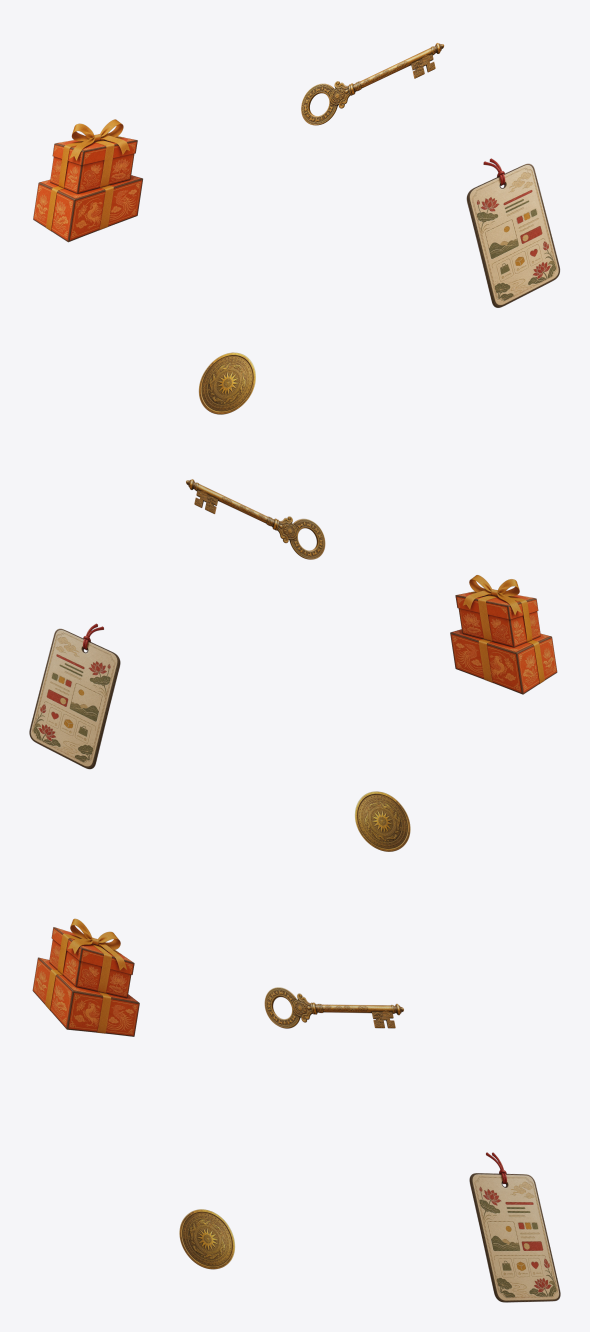
File: EW26_ShopApp_251208v3_compressed-optimized-c51f9f1461.glb
3 views of the same model, one above another, from view 1: azimuth 30°, elevation 25°; view 2: azimuth 150°, elevation 25°; view 3: azimuth 330°, elevation 25° (orthographic). The views are drawn at different scales.
Visible parts, largest first — view 1: Vietfolk_shopapp_giftbox, Vietfolk_shopapp_tag, Vietfolk_shopapp_coin, Vietfolk_shopapp_key; view 2: Vietfolk_shopapp_giftbox, Vietfolk_shopapp_tag, Vietfolk_shopapp_coin, Vietfolk_shopapp_key; view 3: Vietfolk_shopapp_giftbox, Vietfolk_shopapp_tag, Vietfolk_shopapp_coin, Vietfolk_shopapp_key.
Boxes of the visible parts, x1,y1,x2,y2 form: Vietfolk_shopapp_giftbox: (33,119,142,242); Vietfolk_shopapp_tag: (466,158,559,307); Vietfolk_shopapp_coin: (198,352,255,414); Vietfolk_shopapp_key: (301,43,444,125); Vietfolk_shopapp_giftbox: (450,575,557,694); Vietfolk_shopapp_tag: (29,623,120,769); Vietfolk_shopapp_coin: (355,791,410,851); Vietfolk_shopapp_key: (186,479,325,559); Vietfolk_shopapp_giftbox: (32,918,139,1036); Vietfolk_shopapp_tag: (469,1152,560,1302); Vietfolk_shopapp_coin: (179,1209,234,1269); Vietfolk_shopapp_key: (264,987,403,1028).
Size of the model in its own units: 2.64 by 1.62 by 0.18.
Materials: 4 (4 with a texture image).
